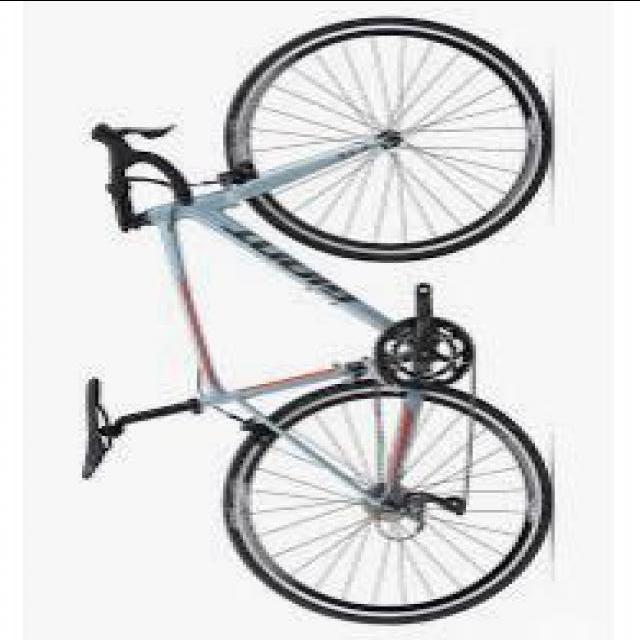bicycle: (73, 11, 555, 611)
